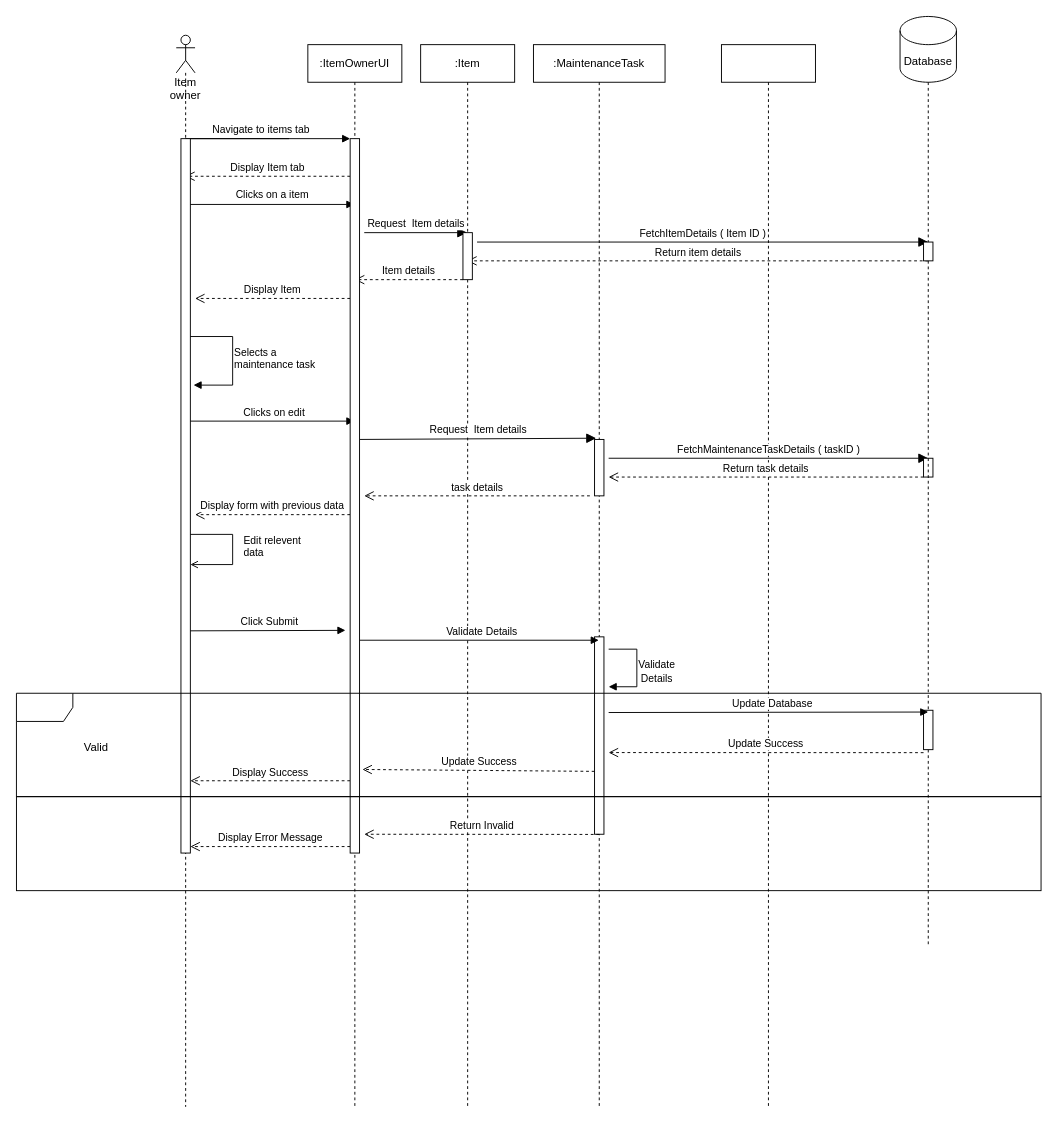
Image size: 1058x1123. Some labels were removed from this diagram. The box of each missing label's shape, as (x1, y1, x2, y2) in pixels:
:ItemMaintenance Template: (721, 44, 815, 1107)
Alt: (16, 692, 1041, 797)
Invalid: (16, 796, 1041, 891)
